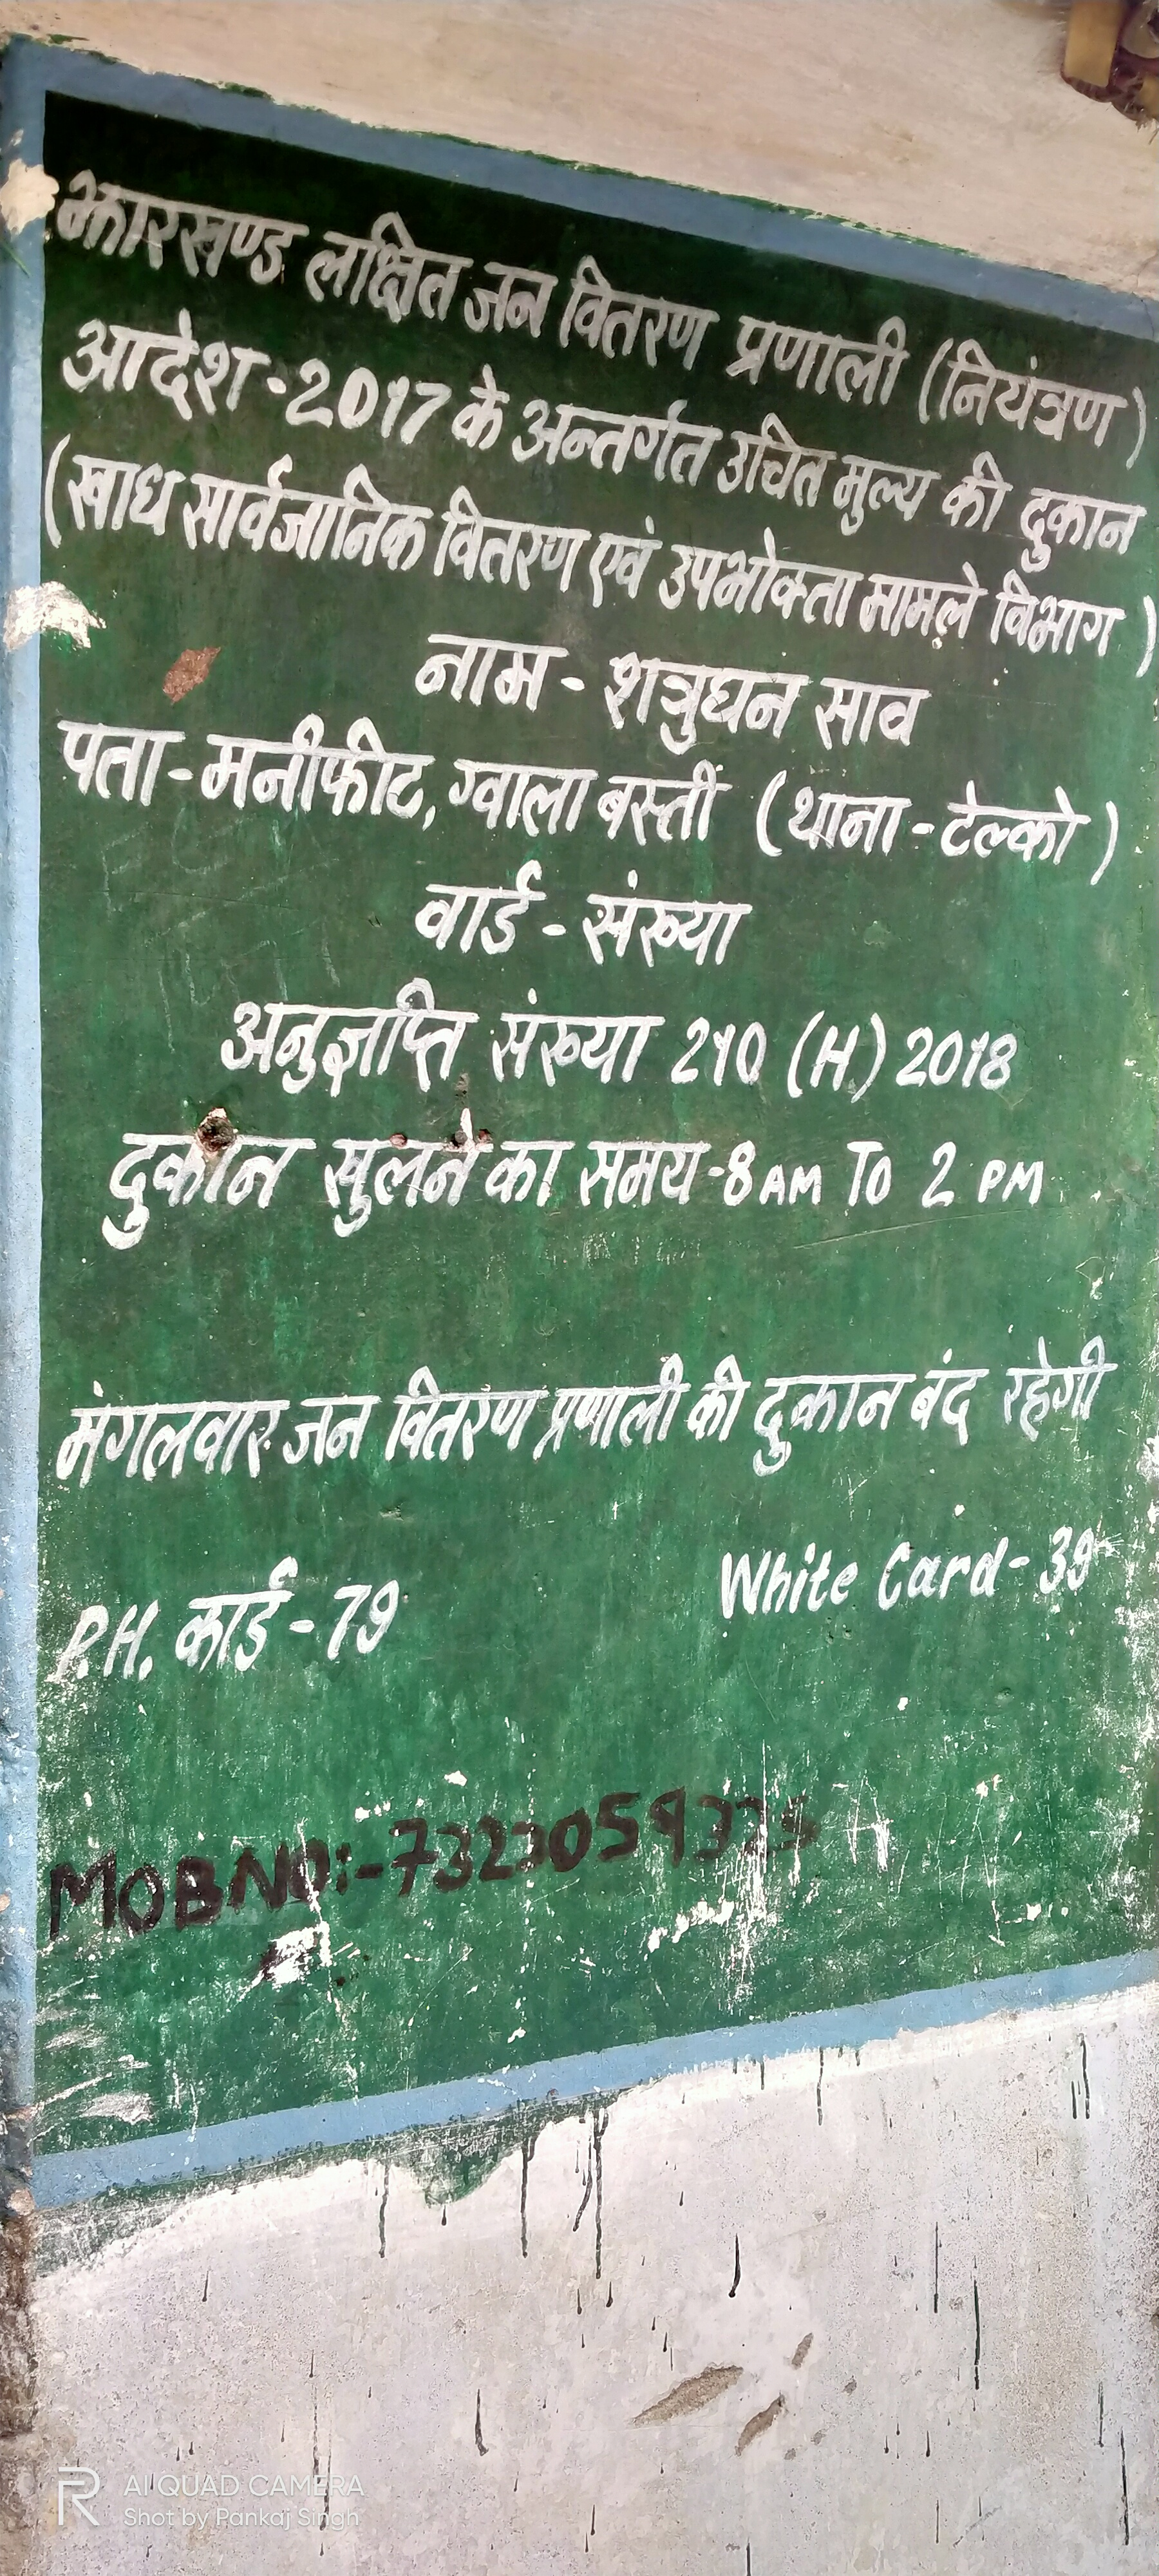text: (11, 33, 1152, 2160)
